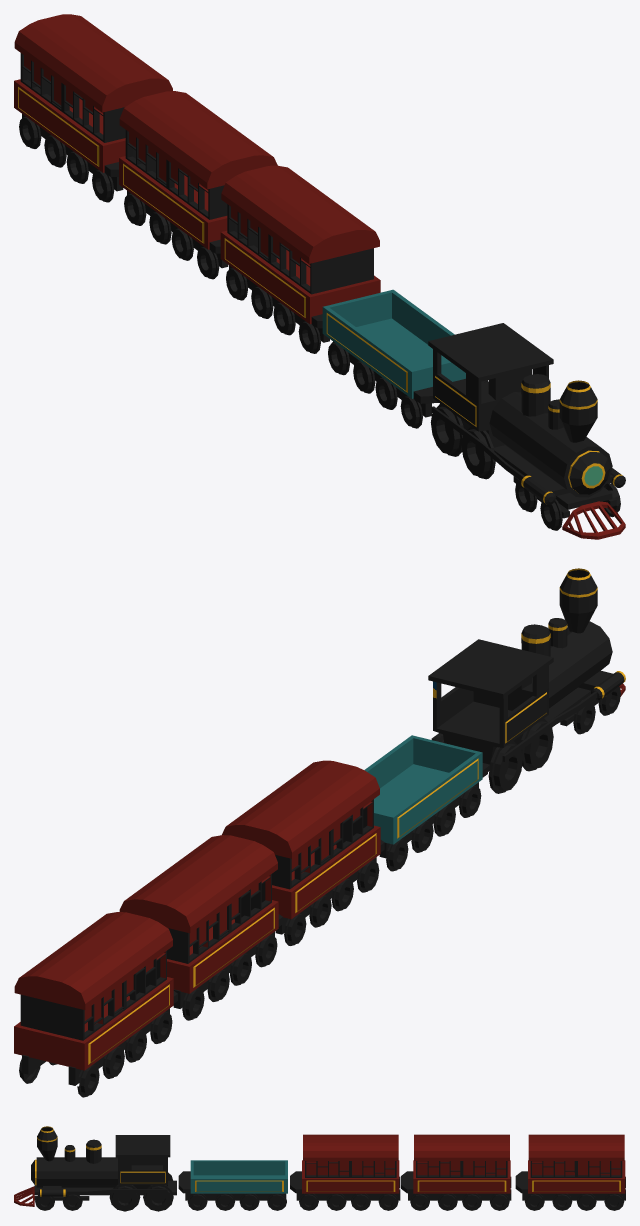
The model's file is train.glb.
The picture shows the model from 3 angles, top to bottom: view 1: azimuth 30°, elevation 25°; view 2: azimuth 150°, elevation 25°; view 3: azimuth 270°, elevation 25°; orthographic projection. The views are drawn at different scales.
Visible parts, largest first — view 1: Train; view 2: Train; view 3: Train.
Boxes of the visible parts, x1,y1,x2,y2 form: Train: (14, 14, 625, 539); Train: (14, 568, 625, 1097); Train: (14, 1126, 625, 1211).
Size of the model in its own units: 0.1216 by 0.196 by 1.45.
Materials: 1 (1 with a texture image).
